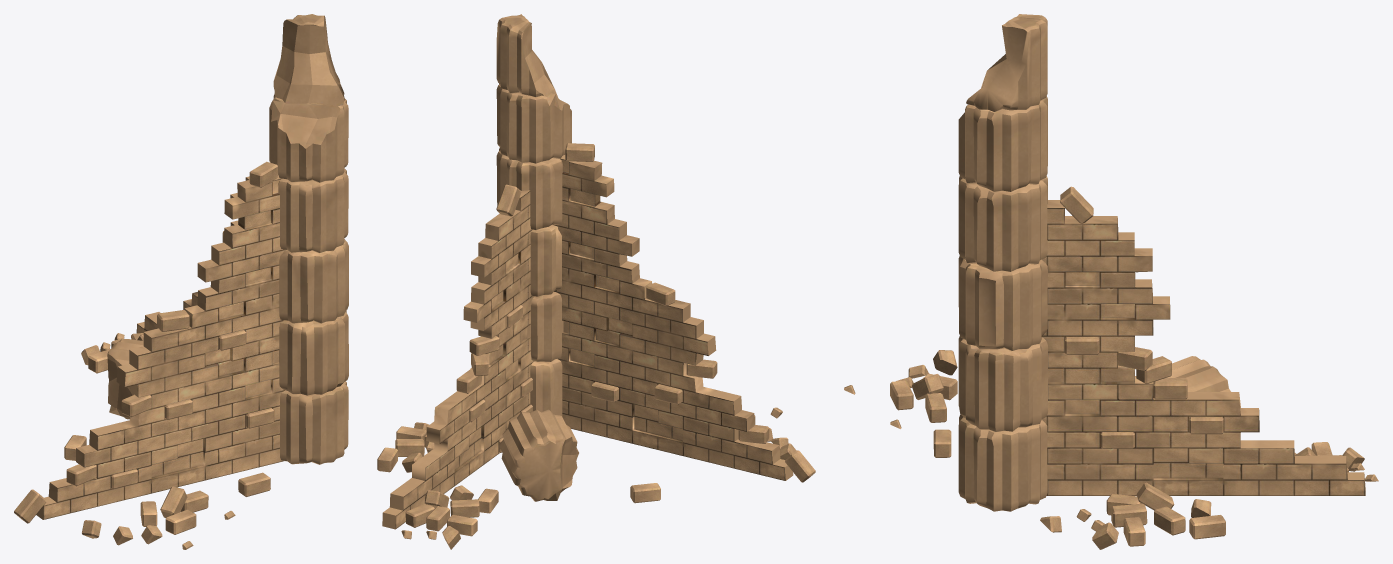
Rendered from sf_pack_wall.glb.
The picture shows the model from 3 angles, left to right: view 1: azimuth 30°, elevation 25°; view 2: azimuth 150°, elevation 25°; view 3: azimuth 270°, elevation 25°; orthographic projection. The views are drawn at different scales.
Visible parts, largest first — view 1: sf_pack_wall; view 2: sf_pack_wall; view 3: sf_pack_wall.
Part boxes in pixels (box(x1,y1,x2,y2)): sf_pack_wall: box(14, 14, 348, 549); sf_pack_wall: box(377, 14, 815, 549); sf_pack_wall: box(844, 14, 1378, 549).
Bounding box in the file's own units: 5.63 × 6.16 × 6.06.
Materials: 2 (2 with a texture image).
